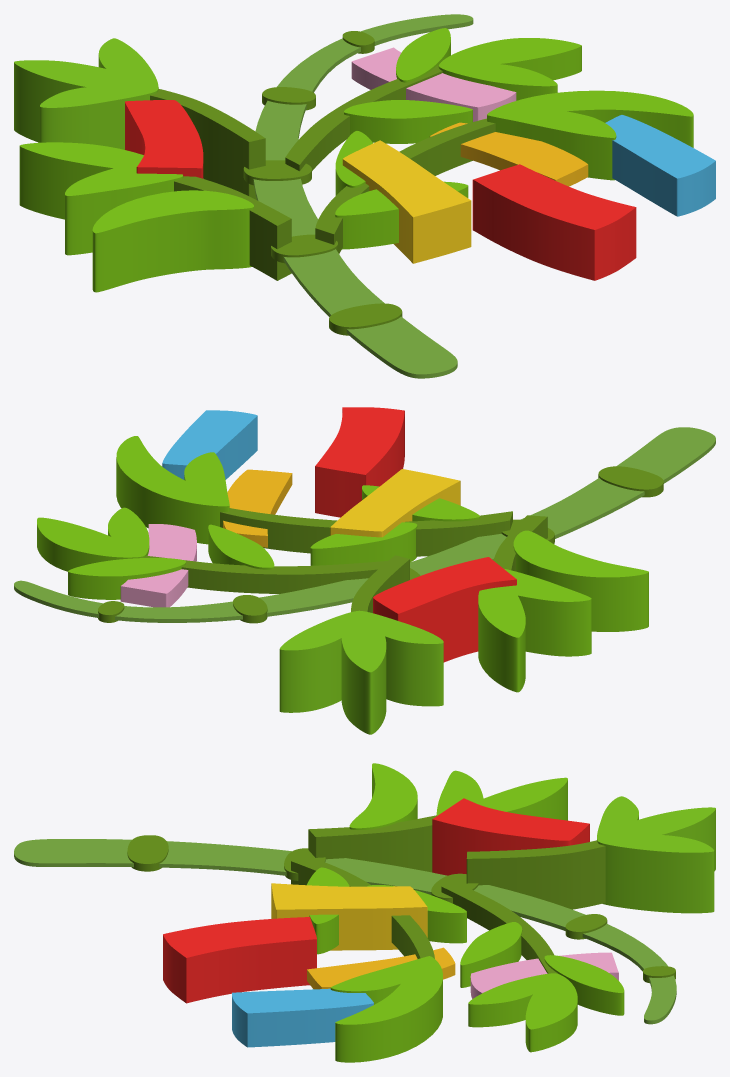
Rendered from emoji_u1f38b.glb.
The picture shows the model from 3 angles, top to bottom: view 1: azimuth 30°, elevation 25°; view 2: azimuth 150°, elevation 25°; view 3: azimuth 270°, elevation 25°; orthographic projection. The views are drawn at different scales.
Parts seen in each view (by area): view 1: emoji_u1f38b; view 2: emoji_u1f38b; view 3: emoji_u1f38b.
Part boxes in pixels (x1,y1,x2,y2): emoji_u1f38b: (14, 14, 715, 378); emoji_u1f38b: (14, 407, 715, 734); emoji_u1f38b: (14, 763, 715, 1062).
Size of the model in its own units: 0.0287 by 0.0034 by 0.0336.
